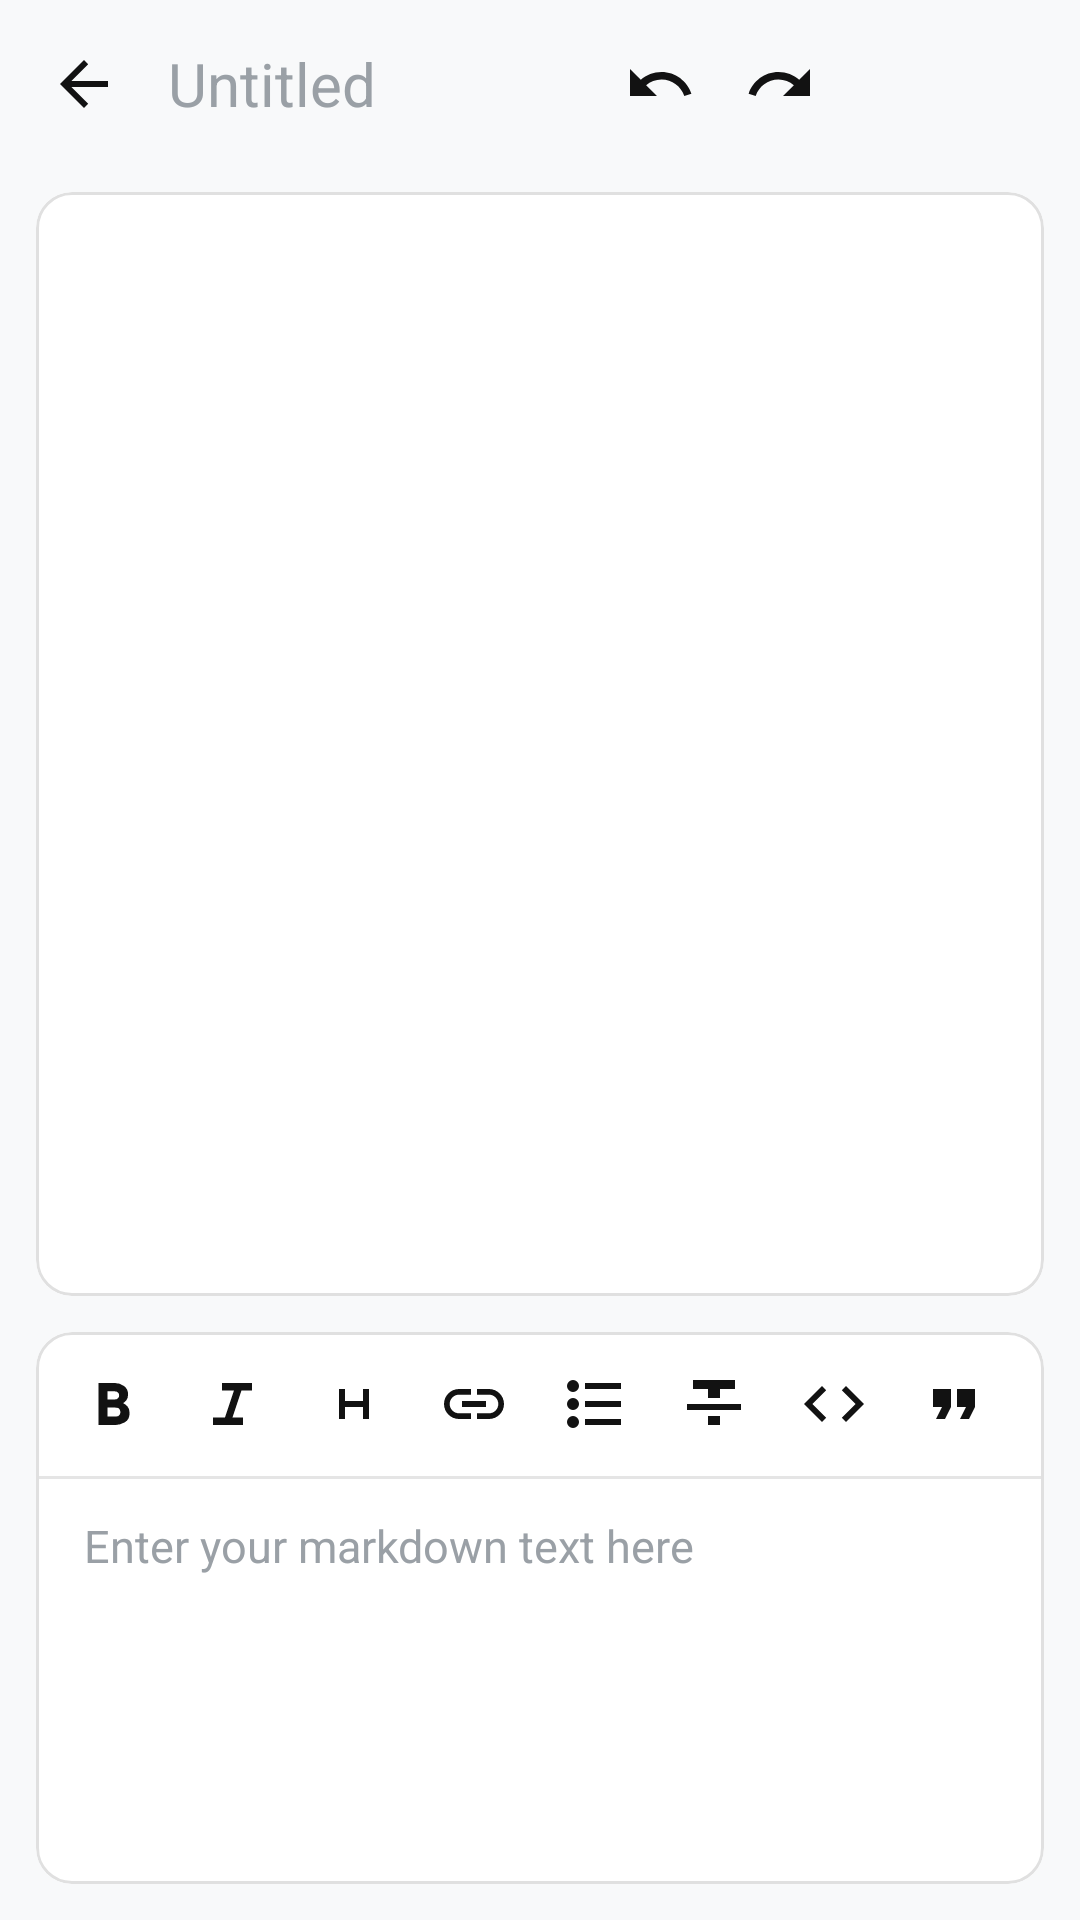

Icons on this 1080px×1920px Android screen, each with the point to tap as [x,y]:
Bold: [114,1404]
Code: [834,1404]
Heading: [354,1404]
Italic: [232,1404]
Link: [474,1404]
List: [594,1404]
Quote: [954,1404]
Redo: [779,82]
Strikethrough: [714,1402]
Undo: [661,82]
